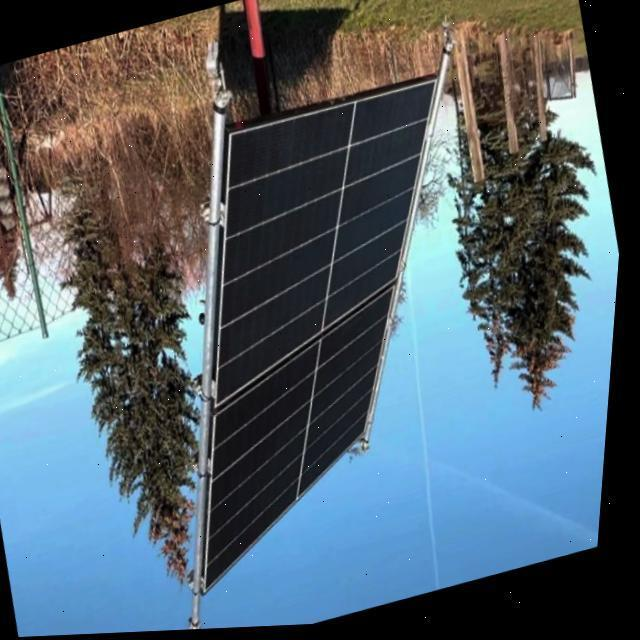Normal Solar Panel: (113, 78, 542, 605)
